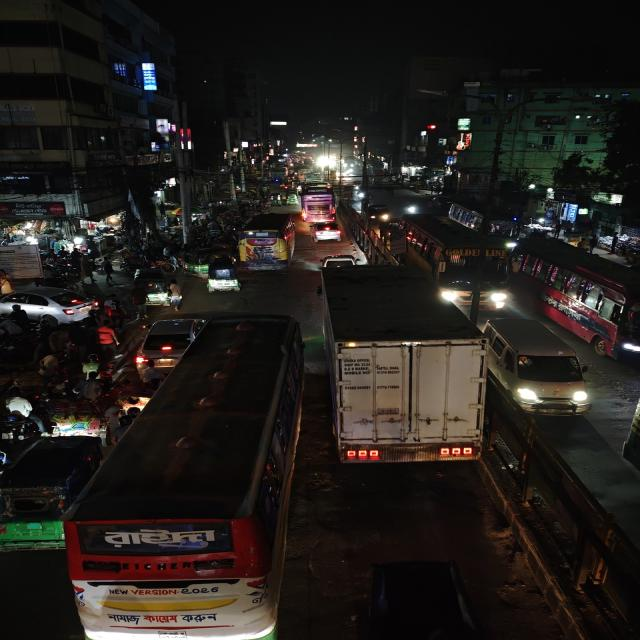bus: (58, 313, 303, 640), (510, 236, 640, 364), (398, 212, 507, 306), (237, 212, 298, 273), (298, 184, 340, 223)
car: (482, 314, 591, 414), (133, 314, 205, 366), (1, 284, 99, 322), (307, 220, 345, 244), (320, 253, 361, 268)
cng: (351, 555, 497, 640), (0, 436, 98, 556), (131, 268, 181, 303), (202, 259, 242, 294), (364, 201, 393, 224), (282, 190, 299, 206)
rickshaw: (44, 393, 113, 439)
truck: (319, 269, 485, 466), (0, 245, 51, 288)
